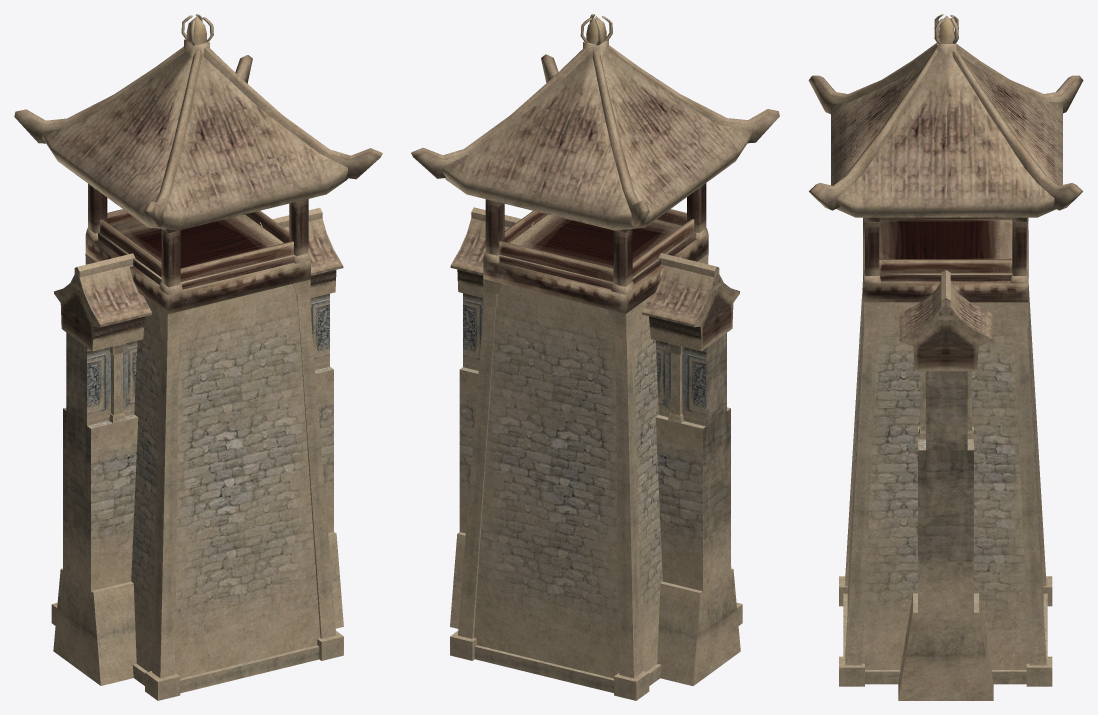
File: desert-middledam-07.glb
3 views of the same model, side by side, from view 1: azimuth 30°, elevation 25°; view 2: azimuth 150°, elevation 25°; view 3: azimuth 270°, elevation 25° (orthographic).
Parts seen in each view (by area): view 1: desert-middledam-03, desert-middledam-02, desert-middledam-04; view 2: desert-middledam-03, desert-middledam-02, desert-middledam-04; view 3: desert-middledam-03, desert-middledam-02, desert-middledam-04.
Part boxes in pixels (left/top/right/bottom): desert-middledam-03: left=42, top=14, right=347, bottom=700; desert-middledam-02: left=53, top=207, right=343, bottom=685; desert-middledam-04: left=14, top=46, right=382, bottom=314; desert-middledam-03: left=442, top=14, right=751, bottom=700; desert-middledam-02: left=450, top=207, right=740, bottom=685; desert-middledam-04: left=411, top=45, right=779, bottom=313; desert-middledam-03: left=831, top=14, right=1062, bottom=686; desert-middledam-02: left=898, top=270, right=993, bottom=700; desert-middledam-04: left=808, top=43, right=1083, bottom=302.
Bounding box in the file's own units: 5.02 × 12.29 × 4.9.
Materials: 3 (3 with a texture image).
